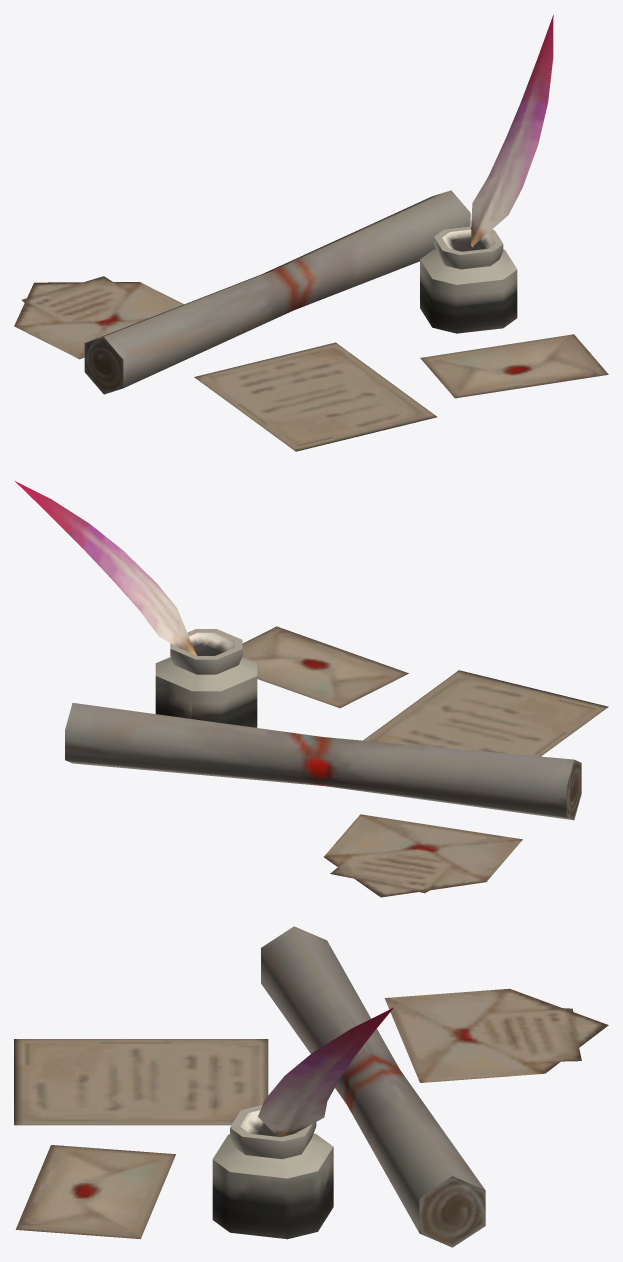
The model's file is Homeworld_Interior_Md_Thing_Stationery_01_Vo.fbx.
The picture shows the model from 3 angles, top to bottom: view 1: azimuth 30°, elevation 25°; view 2: azimuth 150°, elevation 25°; view 3: azimuth 270°, elevation 25°; orthographic projection. The views are drawn at different scales.
Visible parts, largest first — view 1: Homeworld_Interior_Md_Thing_Stationery_01_Vo; view 2: Homeworld_Interior_Md_Thing_Stationery_01_Vo; view 3: Homeworld_Interior_Md_Thing_Stationery_01_Vo.
Part boxes in pixels (left/top/right/bottom): Homeworld_Interior_Md_Thing_Stationery_01_Vo: left=14, top=14, right=608, bottom=451; Homeworld_Interior_Md_Thing_Stationery_01_Vo: left=15, top=481, right=608, bottom=897; Homeworld_Interior_Md_Thing_Stationery_01_Vo: left=14, top=926, right=608, bottom=1247.
Size of the model in its own units: 0.7133 by 0.3181 by 0.5949.
